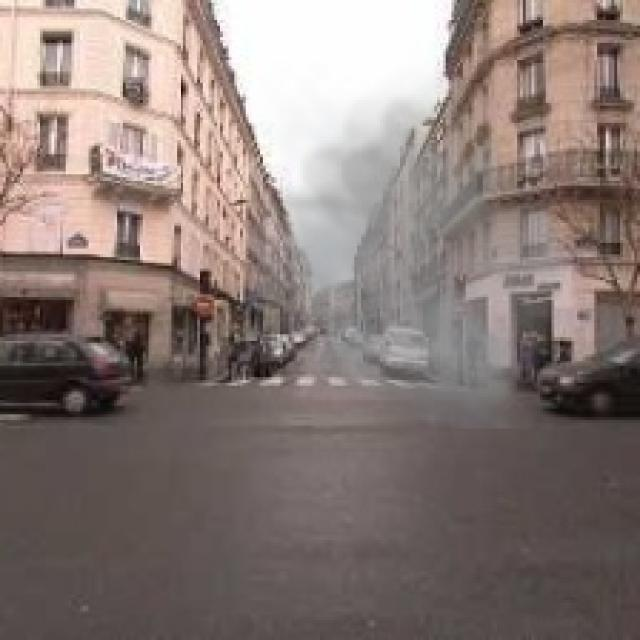smoke: (226, 54, 600, 429)
